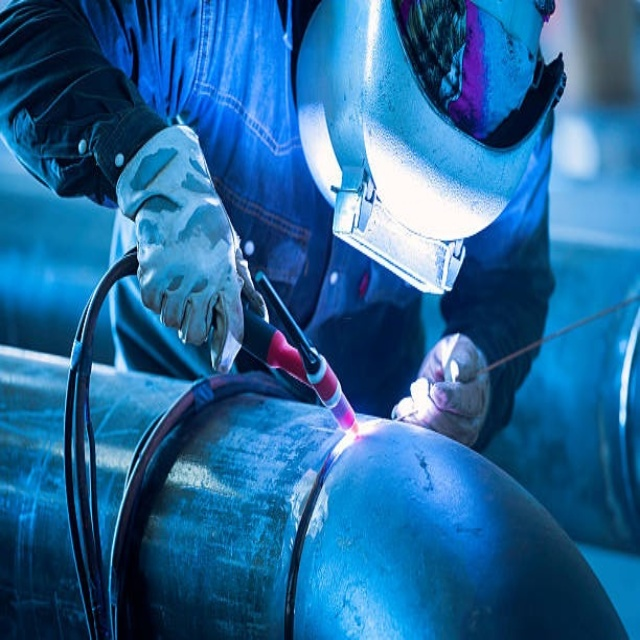Guantes: (119, 123, 256, 370), (388, 329, 498, 432)
Sin_mascara: (534, 0, 556, 22)
